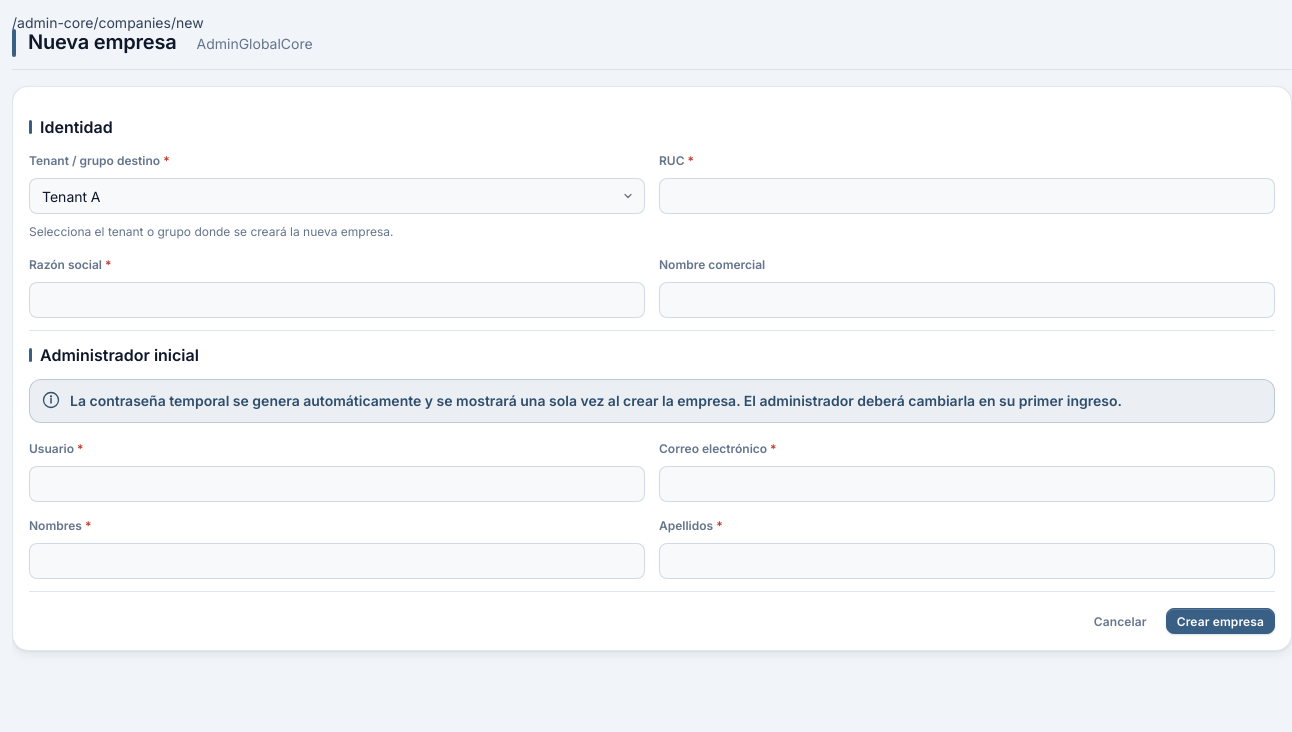
Test: AdminCoreCompanyCreatePage — selector de tenant › exige los datos del administrador inicial y no envía la empresa sin ellos
Check: the dropdown labelled "Tenant / grupo destino" is shown, box [29,178,645,214]
Type "1790012345001" into the field labelled "RUC" at coordinates (967, 196), box [659,178,1275,214]
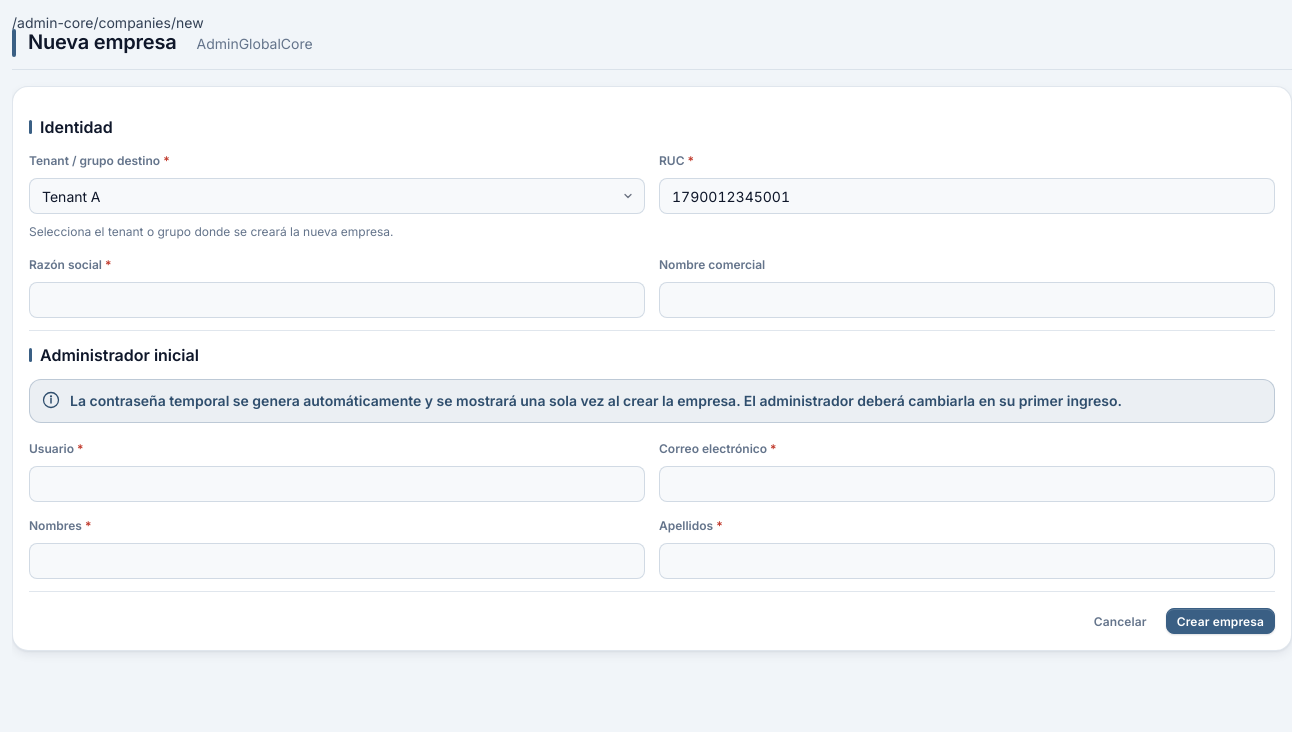
Type "Empresa Nueva" into the field labelled "Razón social" at coordinates (337, 300), box [29,282,645,318]
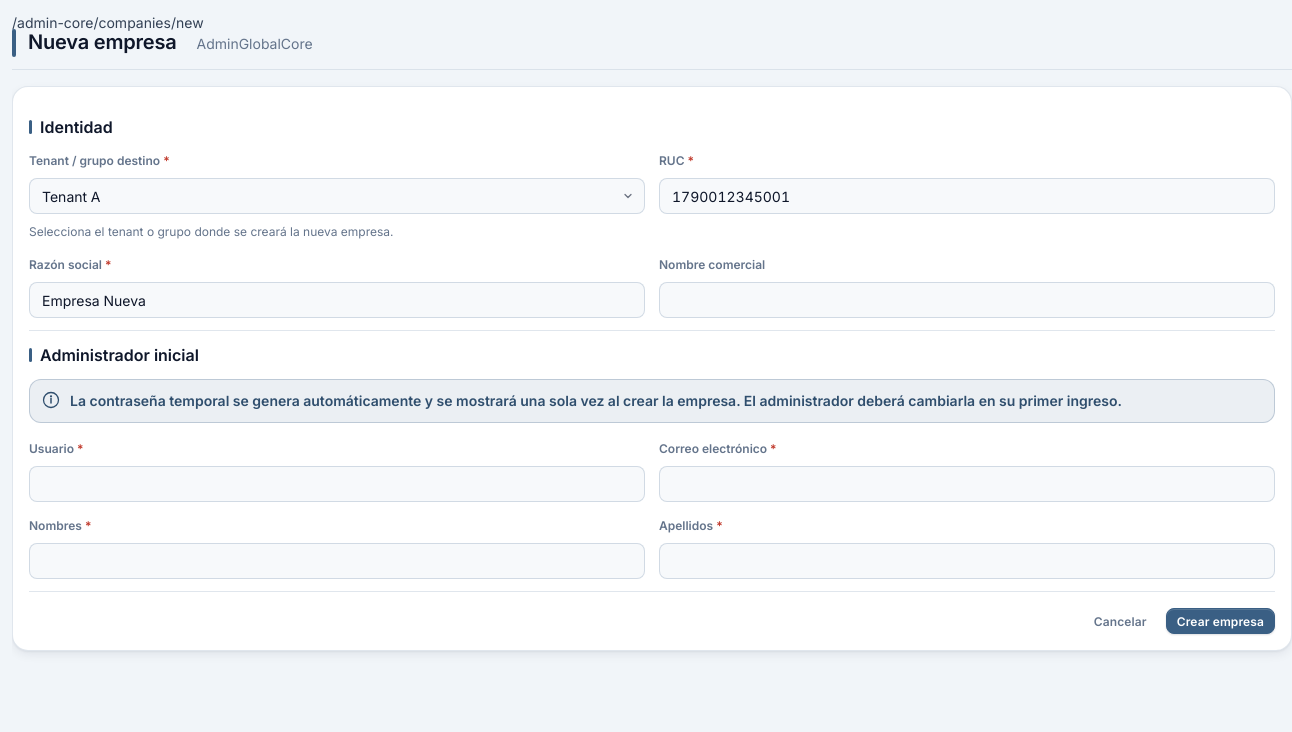
Click the button "Crear empresa" at coordinates (1220, 621), box [1166,608,1275,634]
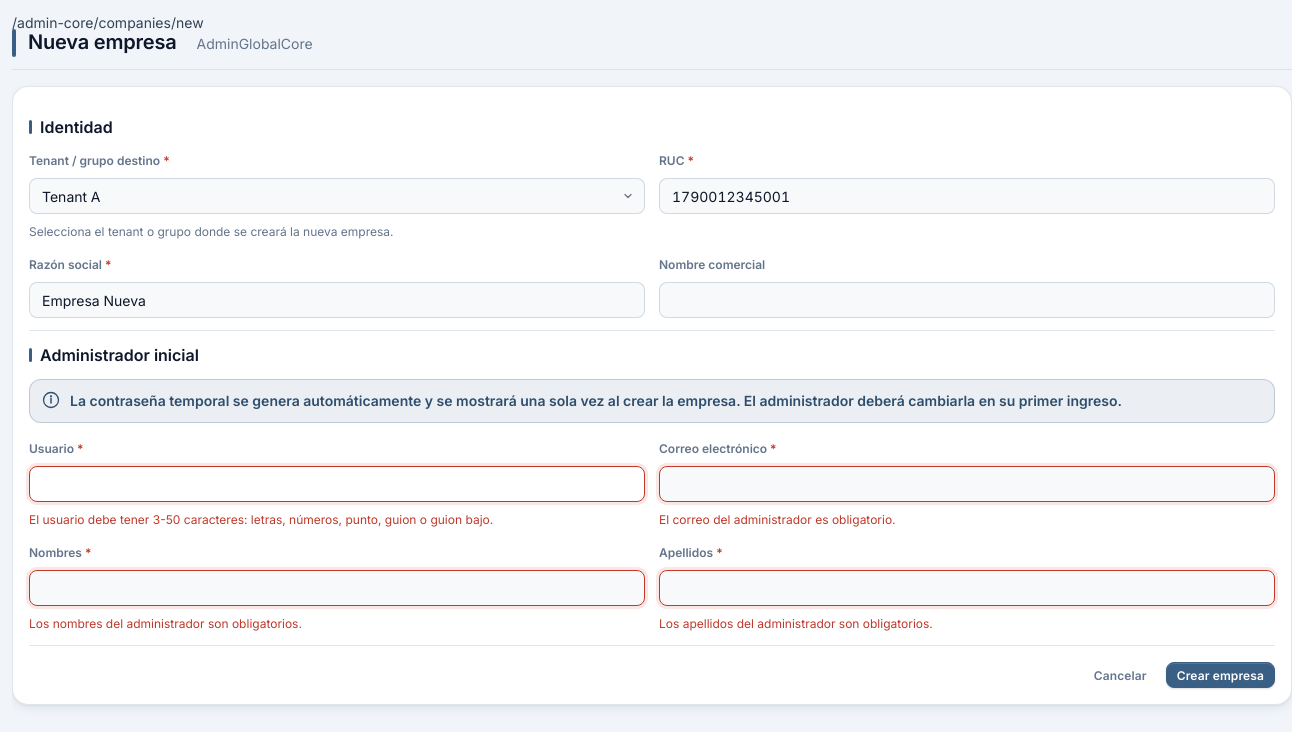
Check: the text "Los nombres del administrador son obligatorios." is shown, box [29,616,302,631]
Check: the text "El correo del administrador es obligatorio." is shown, box [659,512,896,527]
